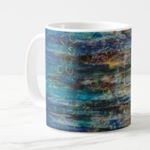cups: (23, 20, 135, 134)
